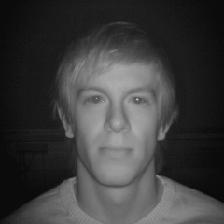normal: (47, 18, 180, 192)
